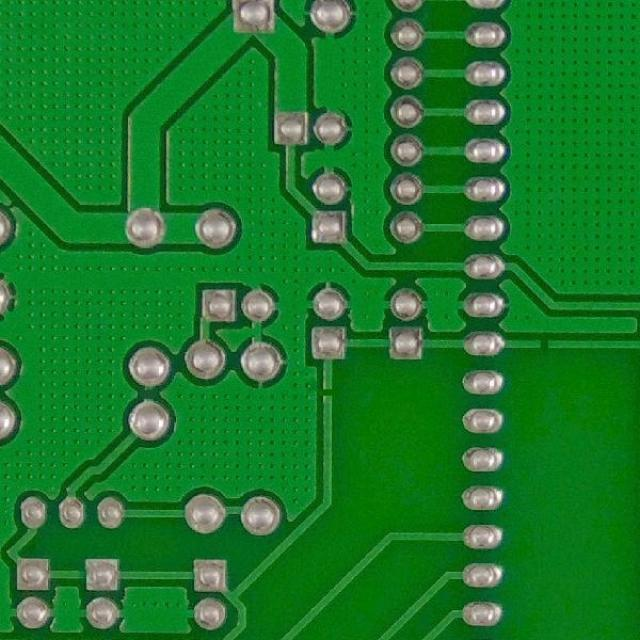Open_Circuit: (319, 376, 337, 409), (532, 336, 560, 352)
